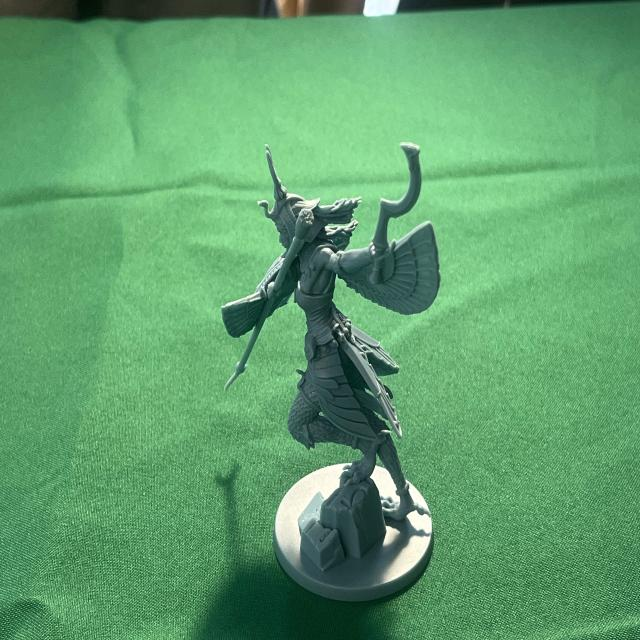isis: (218, 138, 446, 614)
